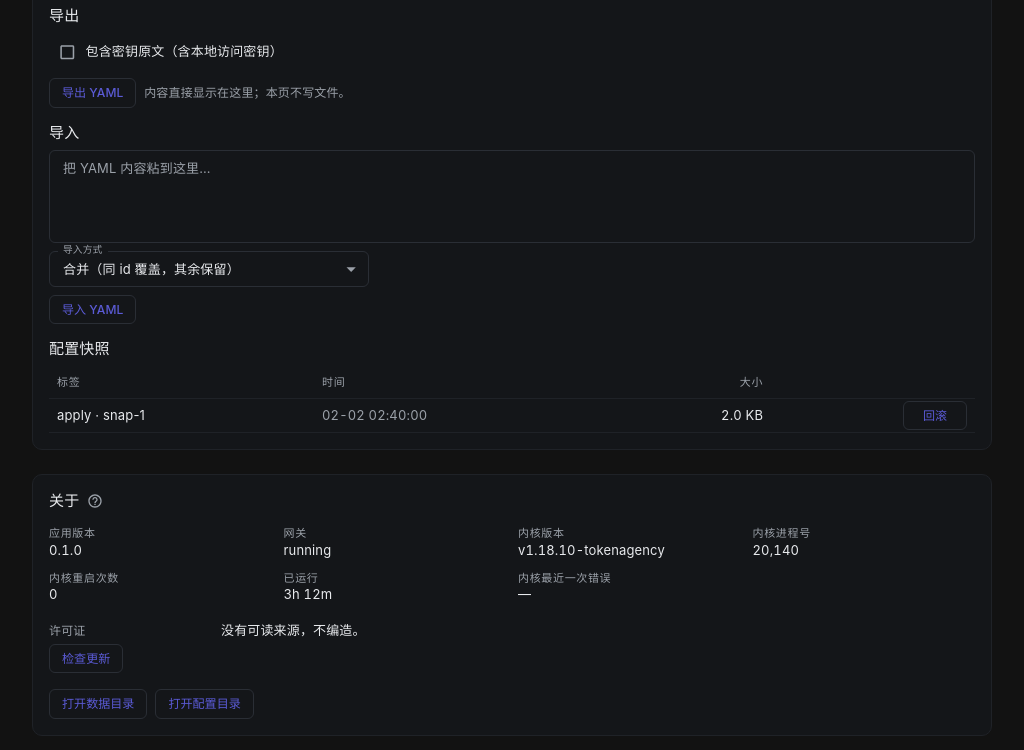
Scenario: 检查更新：只在点了之后发请求，结果如实说 › 后端给了新版本：版本号 / 发行说明 / 下载地址都要显示出来
(page scrolled)
Click the button with test id "settings-update-run".
click(86, 659)  # box [49,644,123,673]
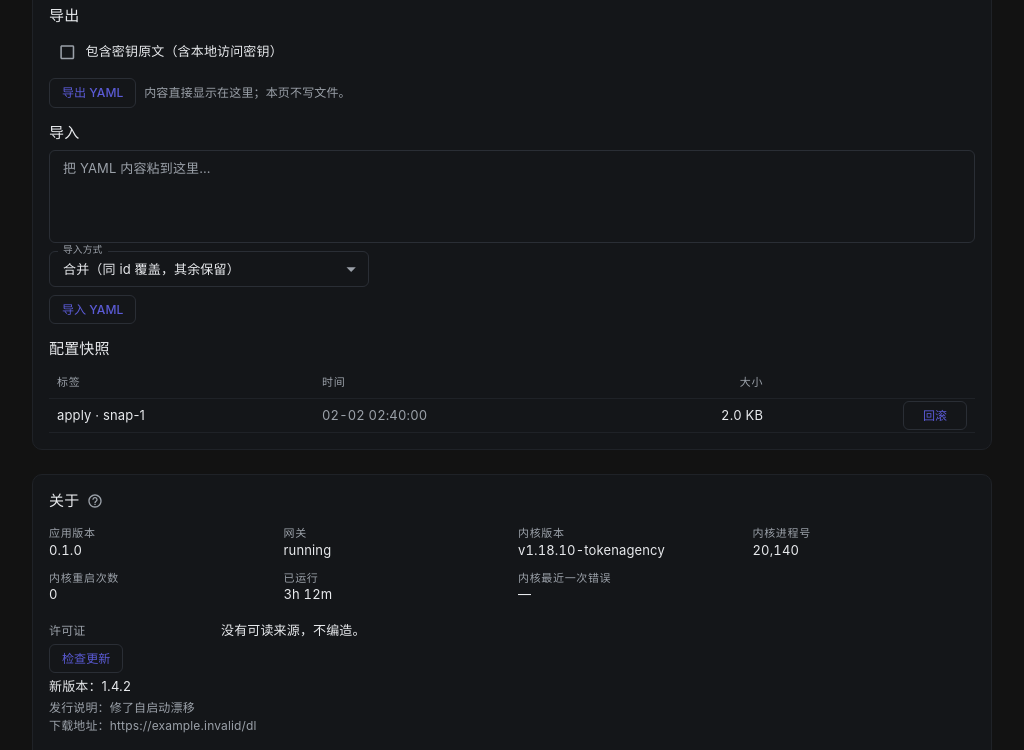
Check: the element with test id "settings-update-result" shows "1.4.2", box [49,678,131,694]
Check: the element with test id "settings-update-result" shows "修了自启动漂移", box [49,700,195,715]
Check: the element with test id "settings-update-result" shows "https://example.invalid/dl", box [49,718,257,733]
